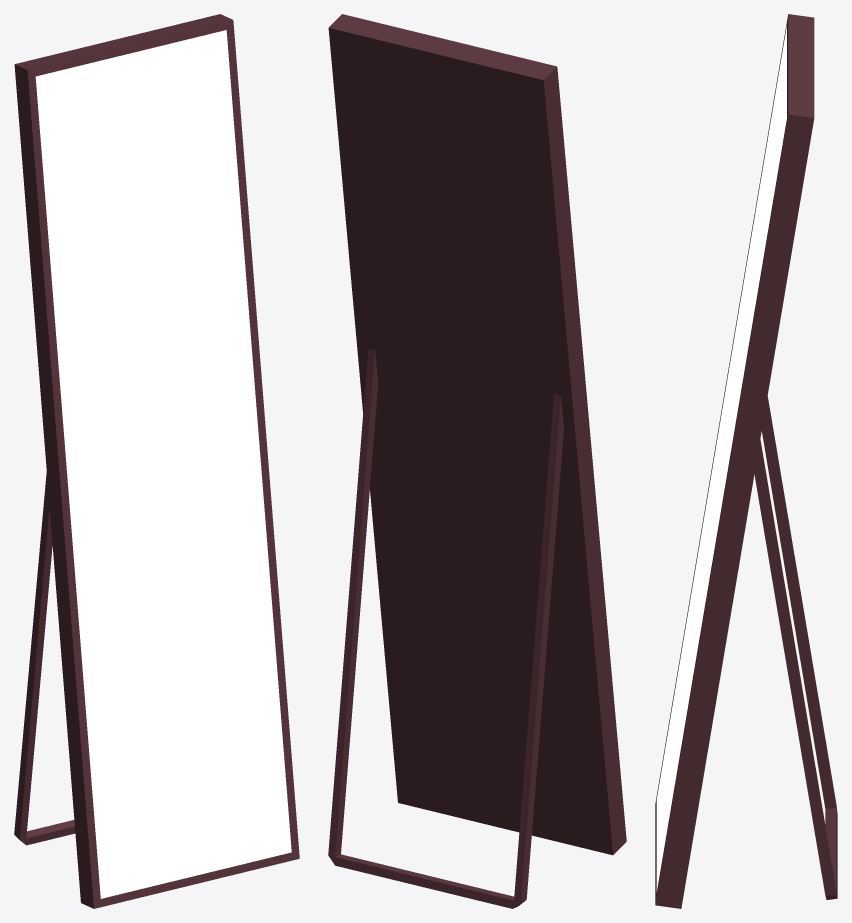
File: furniture-mirror-tall.glb
The picture shows the model from 3 angles, left to right: view 1: azimuth 30°, elevation 25°; view 2: azimuth 150°, elevation 25°; view 3: azimuth 270°, elevation 25°; orthographic projection. The views are drawn at different scales.
Visible parts, largest first — view 1: mirror-tall; view 2: mirror-tall; view 3: mirror-tall.
Boxes of the visible parts, bbox=[...] form: mirror-tall: bbox=[14, 14, 299, 908]; mirror-tall: bbox=[328, 14, 626, 908]; mirror-tall: bbox=[655, 14, 837, 908].
Size of the model in its own units: 0.45 by 1.66 by 0.3454.
